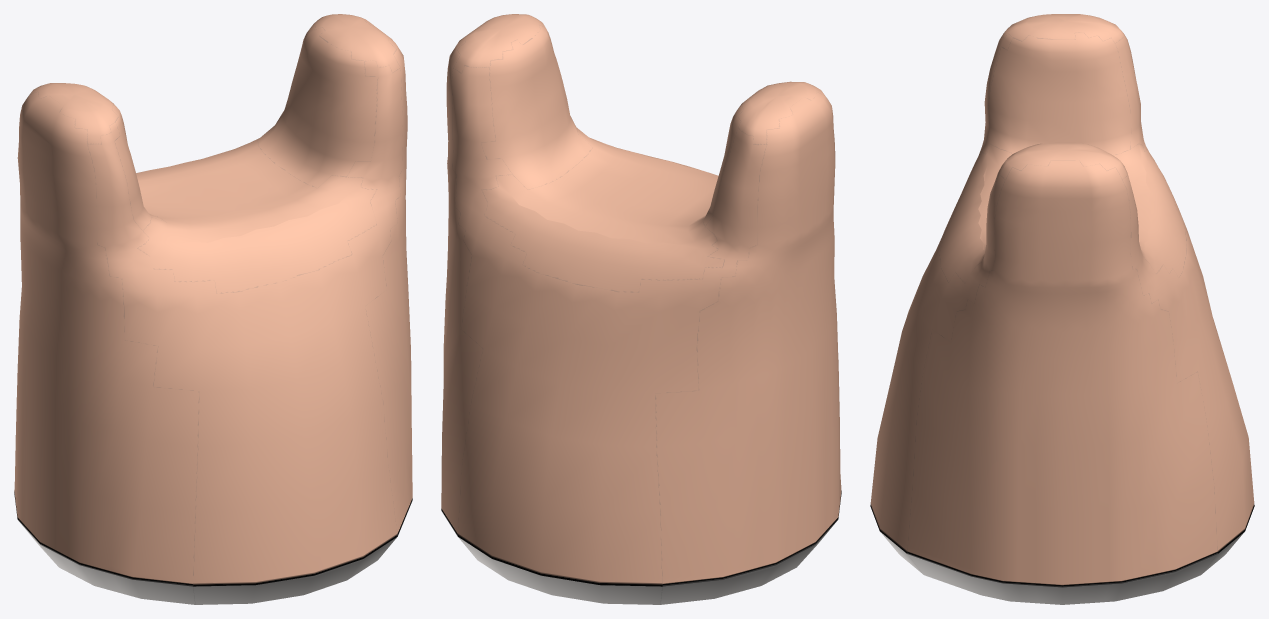
File: ElbowCustom_Lower.fbx
3 renders of one model, left to right at view 1: azimuth 30°, elevation 25°; view 2: azimuth 150°, elevation 25°; view 3: azimuth 270°, elevation 25°, orthographic. The views are drawn at different scales.
Visible parts, largest first — view 1: pCylinder4; view 2: pCylinder4; view 3: pCylinder4.
Part boxes in pixels (bbox=[...]): pCylinder4: bbox=[14, 14, 412, 604]; pCylinder4: bbox=[441, 14, 841, 604]; pCylinder4: bbox=[870, 14, 1254, 604].
Size of the model in its own units: 7.03 by 9.07 by 7.
1 material, 1 textured.
